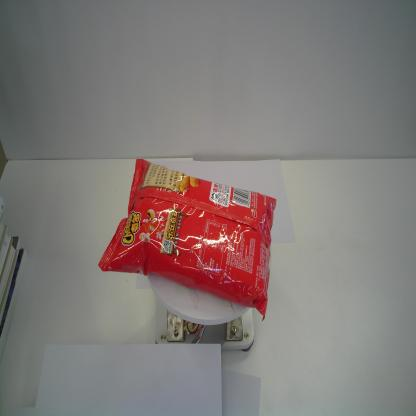Puffed Food: (97, 158, 277, 322)
